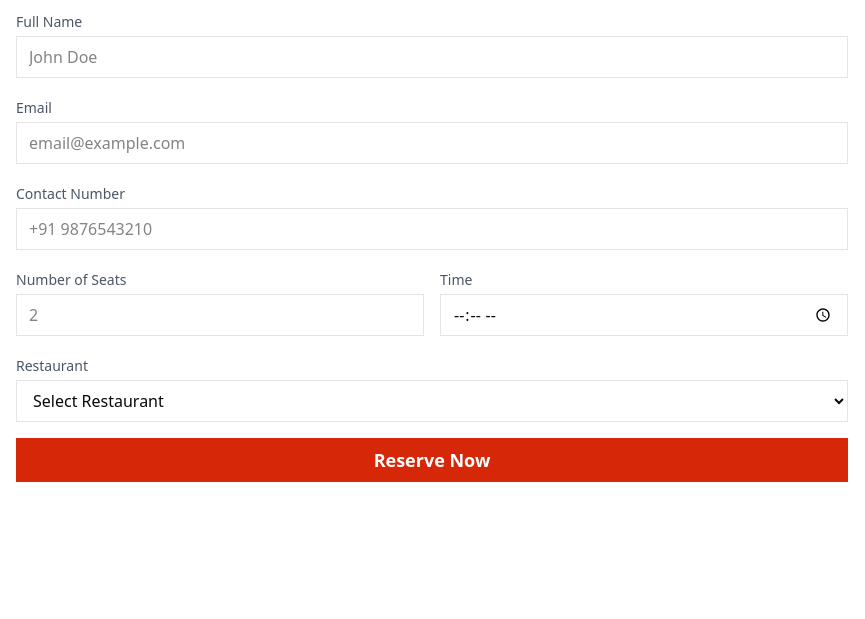
Test: ReservationSection Component › shows error messages for empty fields
Step 1. Click the button "Reserve Now" → (432, 460), box [16, 438, 848, 482]
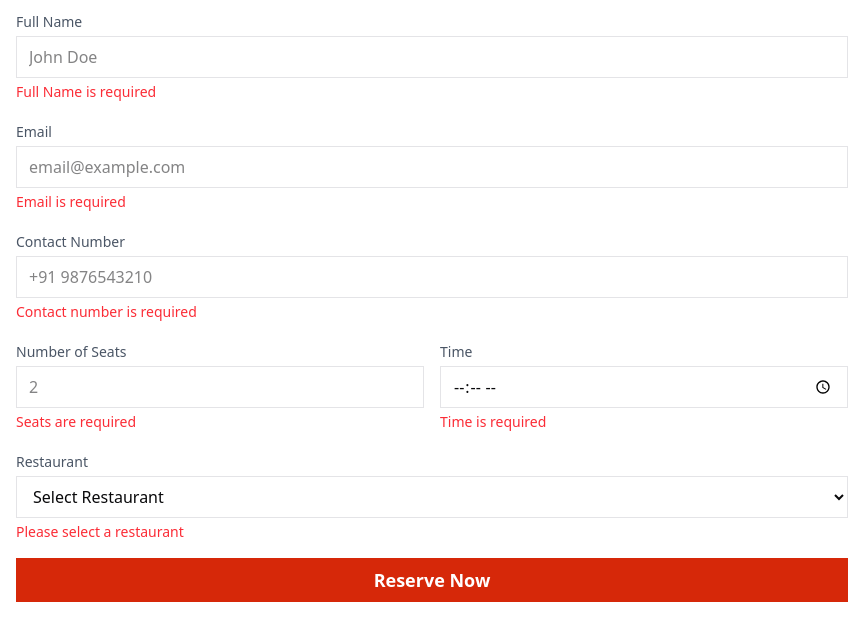
Result: the text "Full Name is required" is shown at [16, 82, 156, 101]
Result: the text "Email is required" is shown at [16, 192, 126, 211]
Result: the text "Contact number is required" is shown at [16, 302, 197, 321]
